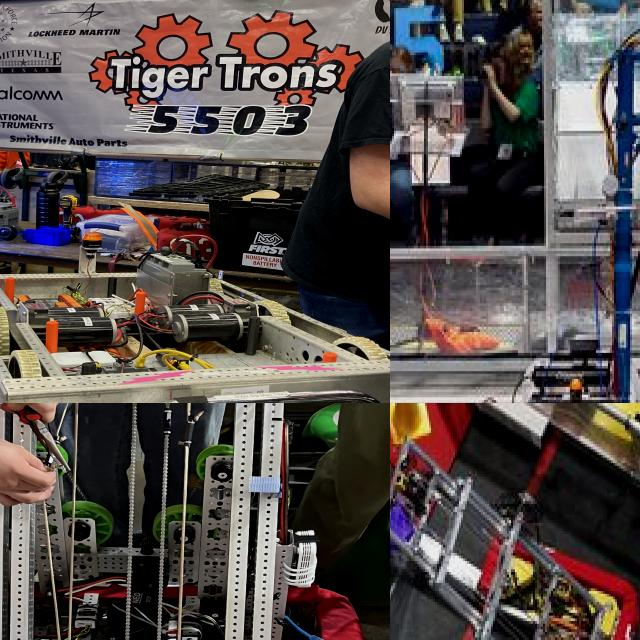FRC-Robots: (405, 0, 640, 403), (0, 403, 390, 640), (0, 169, 390, 403), (390, 403, 640, 640)
